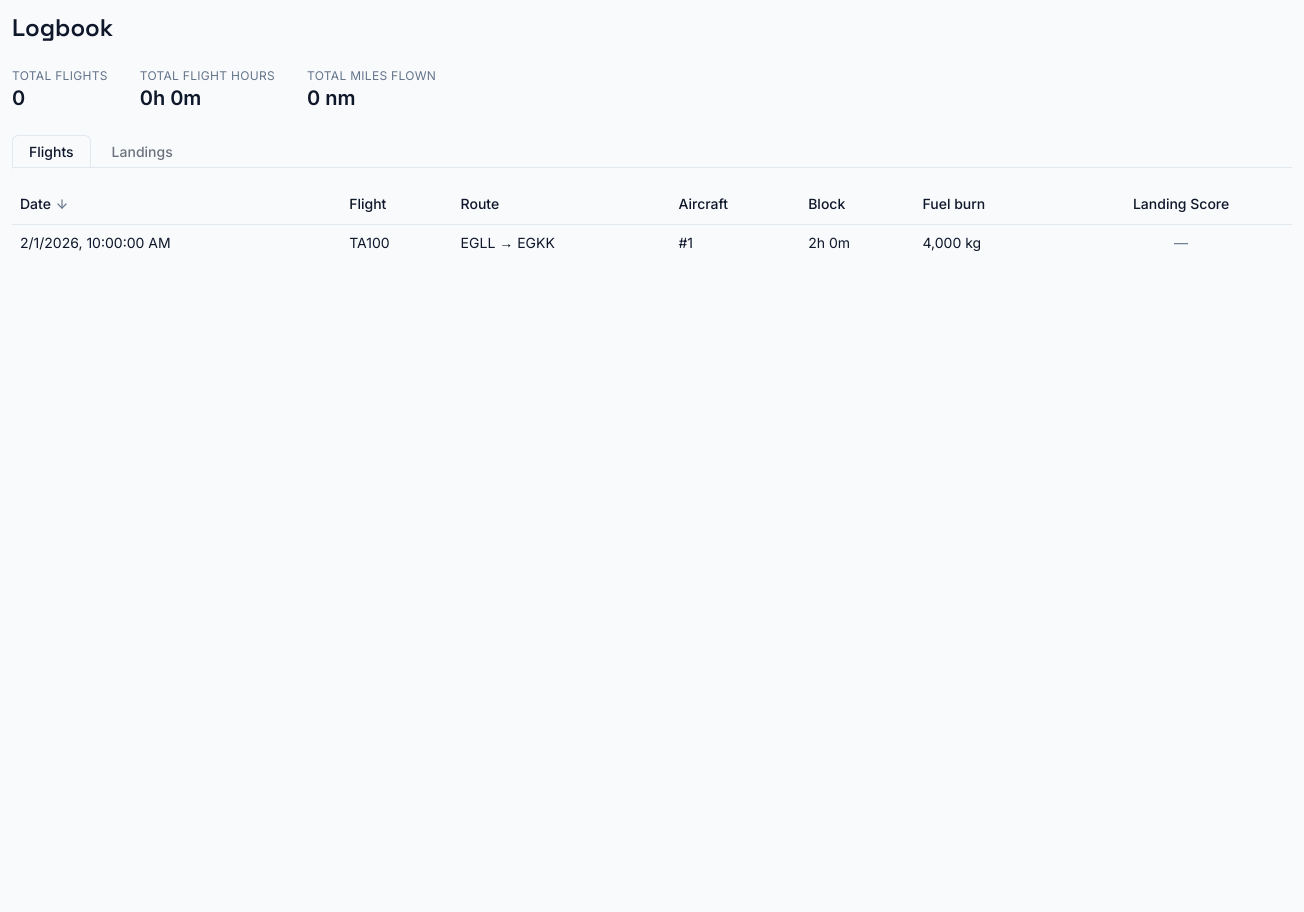
it: FlightDetail › fetches the opened flight in full by id — the list rows carry no OFP text
Click the text "TA100" at (369, 242), box [349,232,390,252]
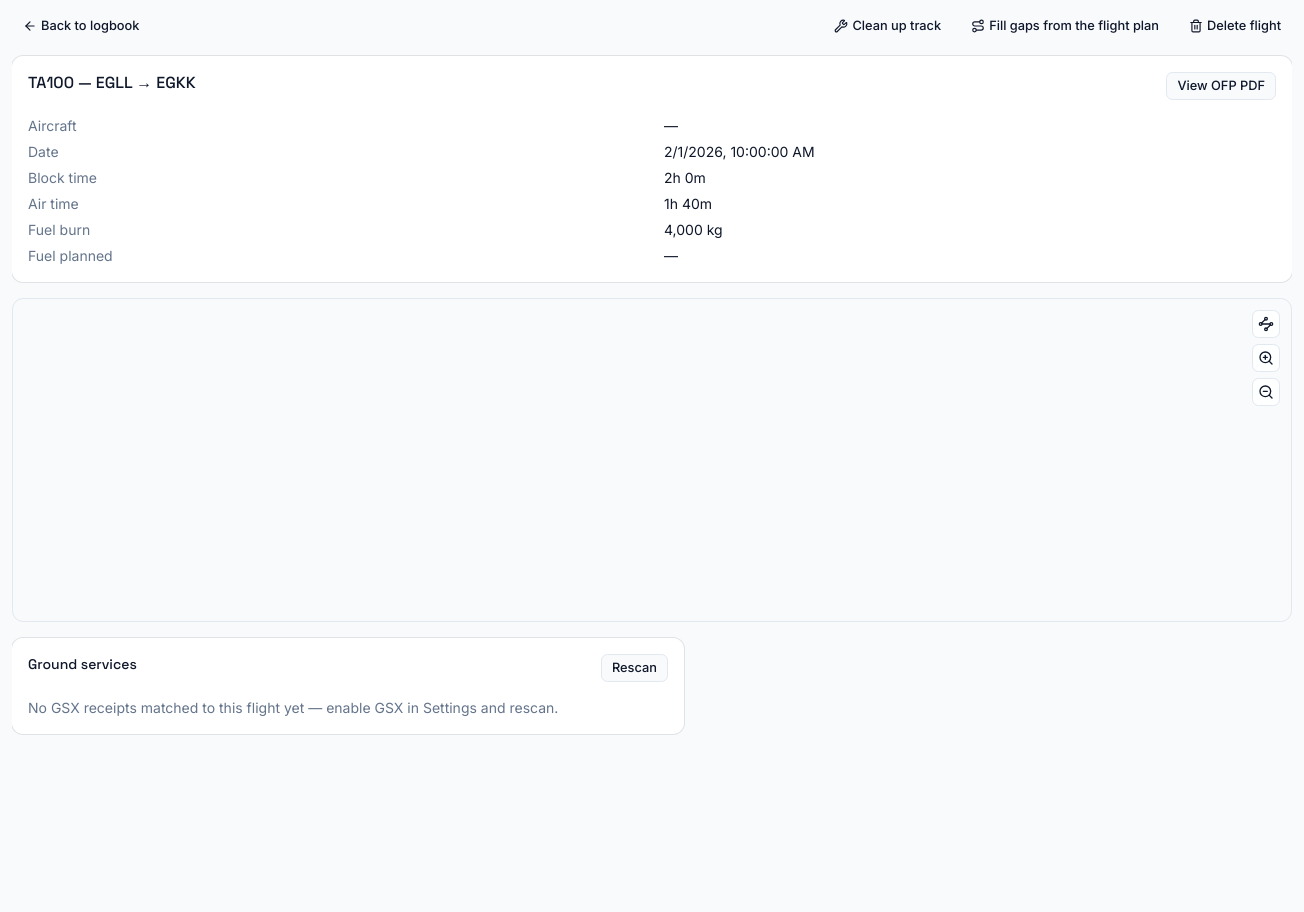
Check: the text "TA100 — EGLL → EGKK" is shown, box [28,72,196,93]
Check: the button "View OFP PDF" is shown, box [1166,72,1276,100]
